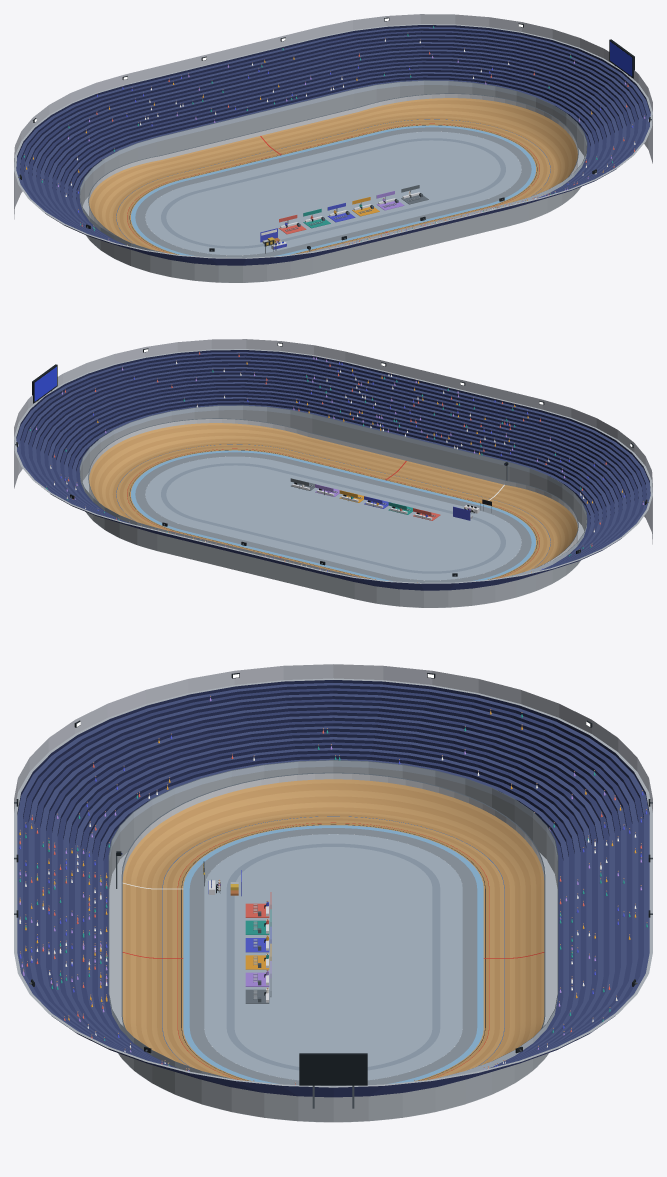
The model's file is velodrome.glb.
3 views of the same model, one above another, from view 1: azimuth 30°, elevation 25°; view 2: azimuth 150°, elevation 25°; view 3: azimuth 270°, elevation 25° (orthographic). The views are drawn at different scales.
Visible parts, largest first — view 1: Stands, Infield, Track, HallWall, StandRail, Barrier, InfieldKit, Crowd, HallKit; view 2: Stands, Infield, Track, HallWall, StandRail, Barrier, InfieldKit, Crowd, HallKit; view 3: Stands, Track, Infield, HallWall, Barrier, StandRail, Crowd, InfieldKit, HallKit.
Part boxes in pixels (x1,y1,x2,y2): Stands: [14, 24, 652, 282]; Infield: [145, 131, 521, 255]; Track: [89, 98, 577, 257]; HallWall: [14, 14, 652, 219]; StandRail: [79, 80, 587, 253]; Barrier: [82, 93, 584, 282]; InfieldKit: [260, 185, 428, 253]; Crowd: [23, 24, 645, 252]; HallKit: [18, 17, 651, 251]; Stands: [14, 349, 652, 607]; Infield: [145, 456, 521, 580]; Track: [89, 423, 577, 582]; HallWall: [14, 339, 652, 544]; StandRail: [79, 405, 587, 578]; Barrier: [82, 418, 584, 607]; InfieldKit: [290, 462, 508, 520]; Crowd: [29, 351, 643, 582]; HallKit: [15, 342, 648, 576]; Stands: [14, 678, 652, 1122]; Track: [122, 779, 544, 1086]; Infield: [204, 834, 462, 1080]; HallWall: [14, 664, 652, 812]; Barrier: [109, 772, 557, 1122]; StandRail: [108, 760, 558, 1079]; Crowd: [19, 696, 647, 1084]; InfieldKit: [116, 851, 271, 1003]; HallKit: [14, 673, 652, 1108].
Size of the model in its own units: 147 by 18.11 by 97.05.
